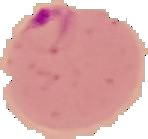parasitized: (11, 5, 82, 53)
